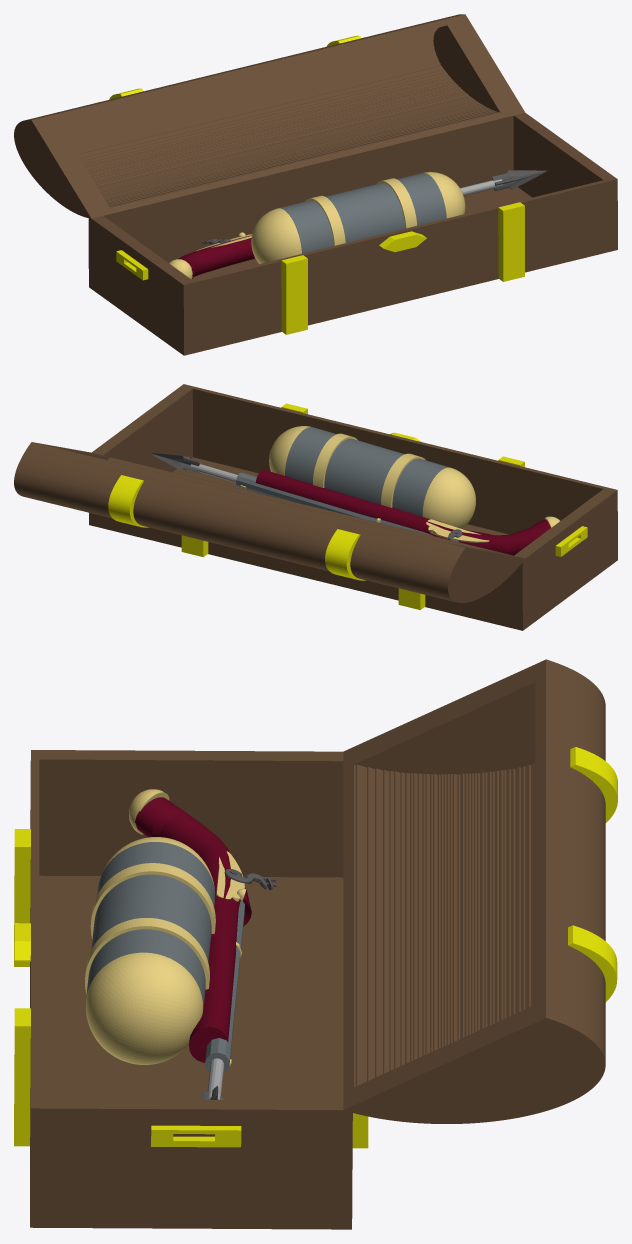
The model's file is speargunChest.fbx.
3 views of the same model, one above another, from view 1: azimuth 30°, elevation 25°; view 2: azimuth 150°, elevation 25°; view 3: azimuth 270°, elevation 25° (orthographic). The views are drawn at different scales.
Parts seen in each view (by area): view 1: woodPortions, pCube2, outerDecor; view 2: woodPortions, pCube2, outerDecor; view 3: woodPortions, pCube2, outerDecor.
Part boxes in pixels (bbox=[...]): woodPortions: bbox=[14, 14, 617, 355]; pCube2: bbox=[169, 170, 547, 279]; outerDecor: bbox=[109, 35, 524, 334]; woodPortions: bbox=[14, 384, 617, 630]; pCube2: bbox=[149, 426, 559, 555]; outerDecor: bbox=[108, 403, 587, 609]; woodPortions: bbox=[30, 659, 605, 1229]; pCube2: bbox=[85, 789, 276, 1099]; outerDecor: bbox=[14, 747, 617, 1148].
Bounding box in the file's own units: 81.99 × 22.03 × 56.96.
